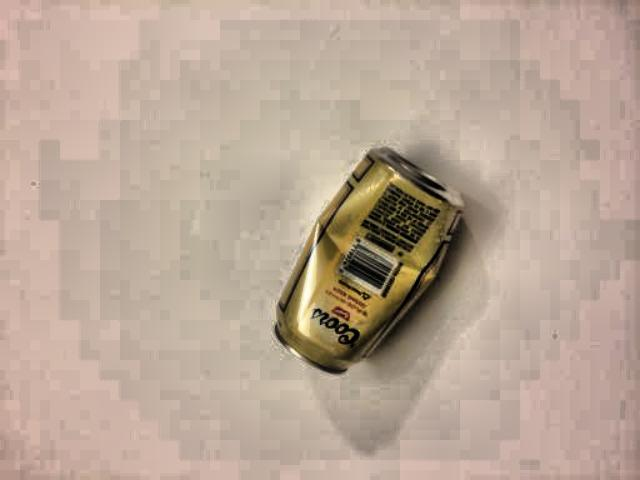Bottles: (248, 133, 494, 404)
